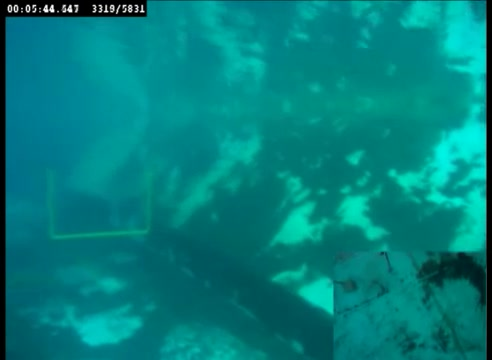channel: (45, 163, 155, 242)
